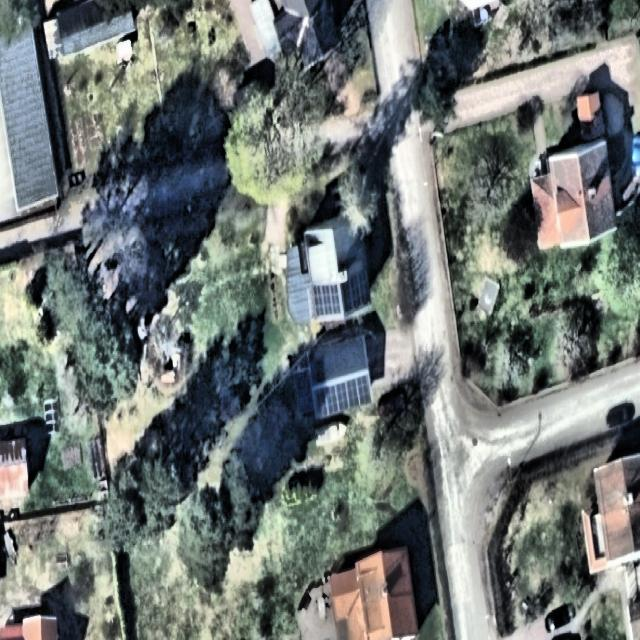roof_pv: (316, 381, 372, 410), (342, 276, 372, 312), (310, 284, 340, 318)
